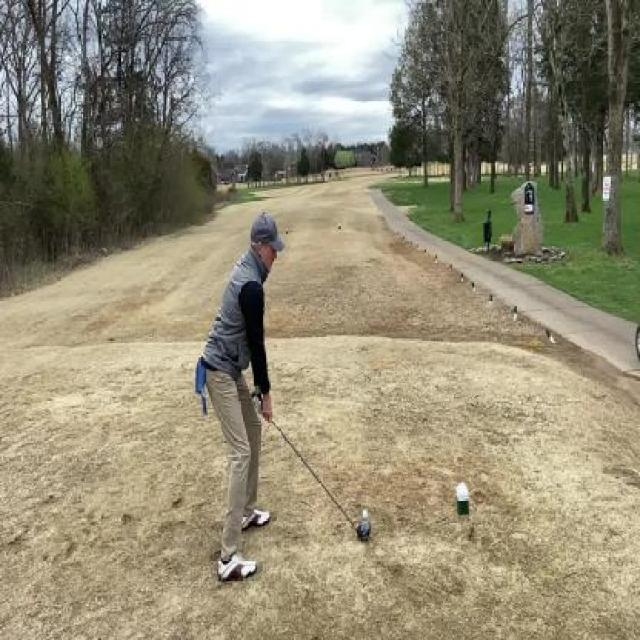club head: (352, 520, 370, 542)
